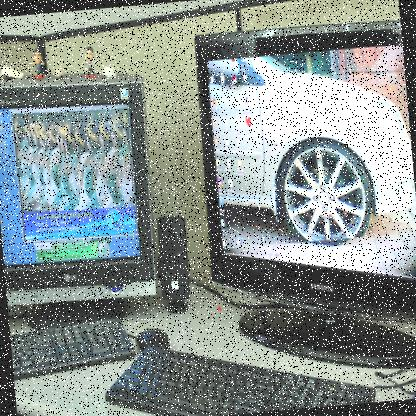Car: (206, 44, 415, 251)
